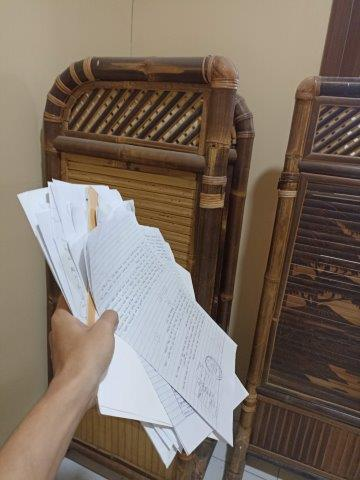kertas: (16, 178, 249, 470)
